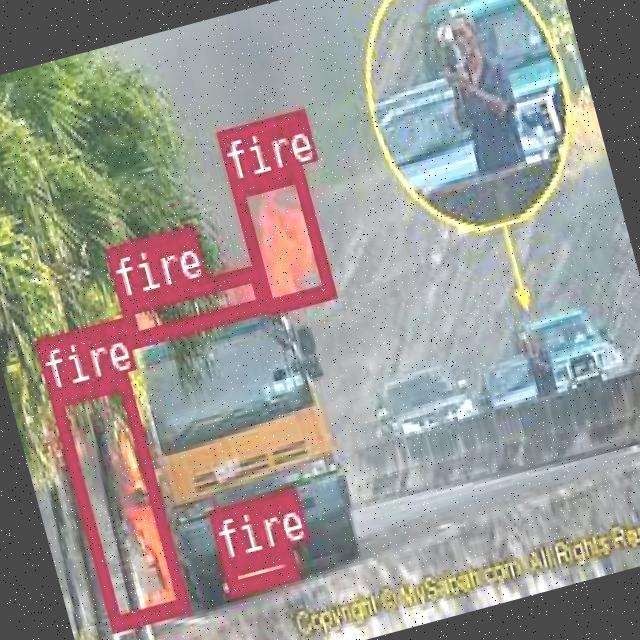fire: (47, 370, 187, 628), (227, 164, 333, 312), (117, 263, 266, 344), (218, 542, 296, 594)
